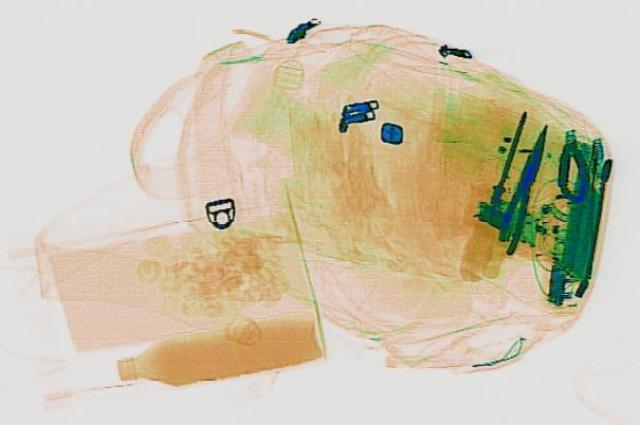Pliers: (488, 121, 558, 254)
